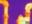Hotspot: (0, 0, 8, 23), (18, 15, 30, 23), (25, 3, 31, 13)
